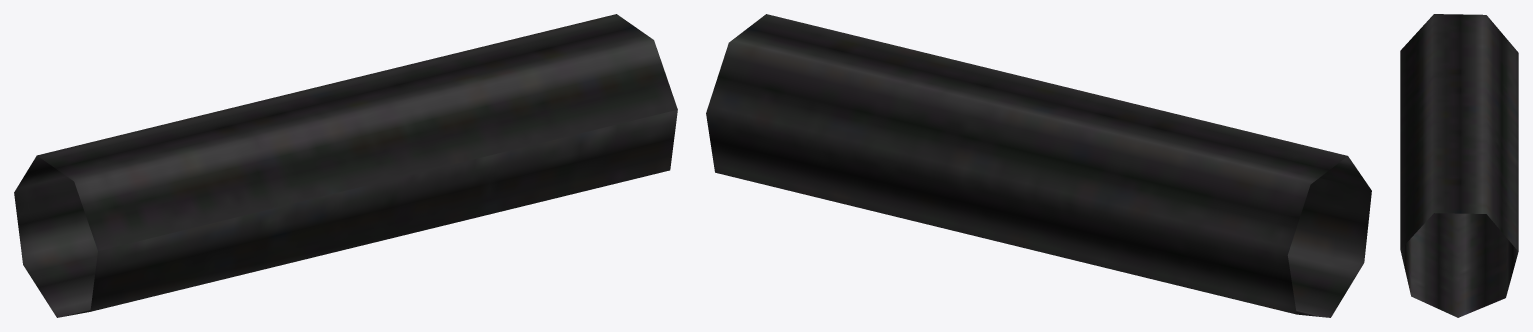
File: lab_thick_straight_tiny.dae
3 views of the same model, side by side, from view 1: azimuth 30°, elevation 25°; view 2: azimuth 150°, elevation 25°; view 3: azimuth 270°, elevation 25° (orthographic). The views are drawn at different scales.
Parts seen in each view (by area): view 1: straight_tiny; view 2: straight_tiny; view 3: straight_tiny.
Part boxes in pixels (left/top/right/bottom): straight_tiny: left=14, top=14, right=677, bottom=317; straight_tiny: left=706, top=14, right=1371, bottom=317; straight_tiny: left=1400, top=14, right=1518, bottom=317.
Size of the model in its own units: 0.5 by 0.1228 by 0.1254.
